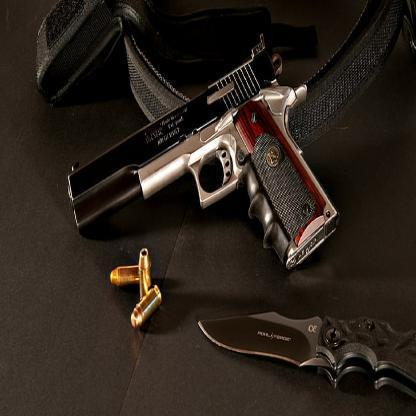Knife: (197, 305, 416, 399)
Pistol: (65, 29, 340, 274)
